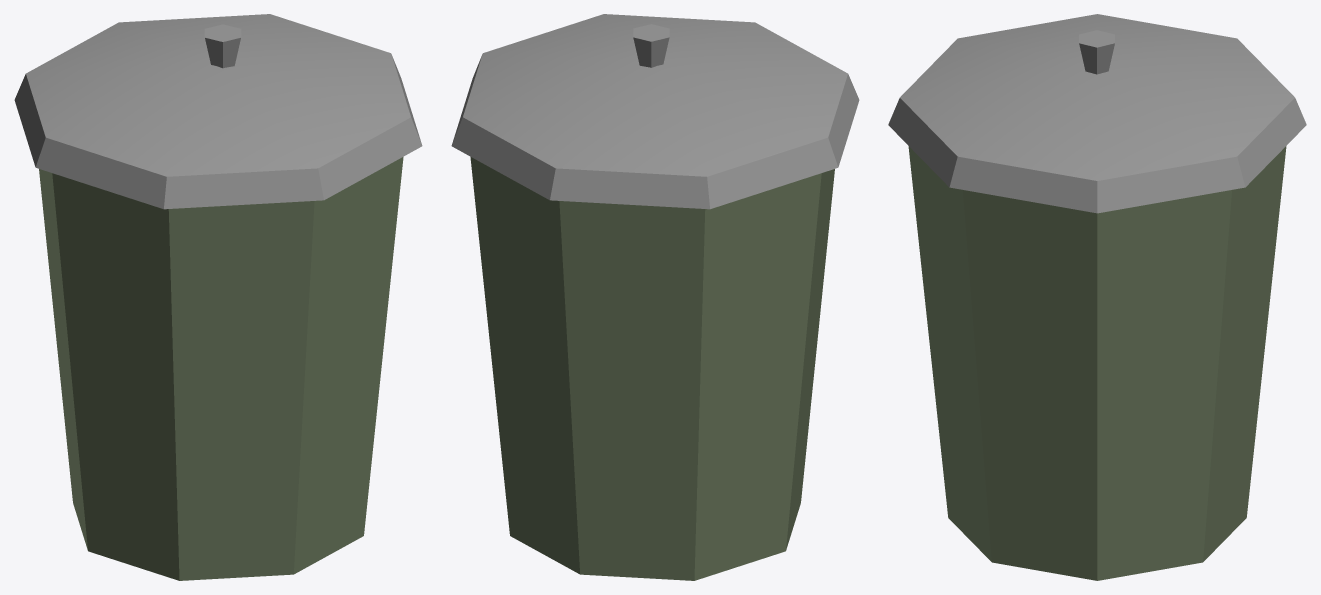
File: bin_green.fbx
The picture shows the model from 3 angles, left to right: view 1: azimuth 30°, elevation 25°; view 2: azimuth 150°, elevation 25°; view 3: azimuth 270°, elevation 25°; orthographic projection.
Visible parts, largest first — view 1: binBase1, binLid1, binHandle1; view 2: binBase1, binLid1, binHandle1; view 3: binBase1, binLid1, binHandle1.
Part boxes in pixels (x1,y1,x2,y2): binBase1: (39,157,403,580); binLid1: (14,14,422,209); binHandle1: (204,24,241,68); binBase1: (470,157,834,580); binLid1: (451,14,859,209); binHandle1: (633,24,669,67); binBase1: (908,146,1286,580); binLid1: (888,14,1306,213); binHandle1: (1079,30,1114,74).
Bounding box in the file's own units: 0.4547 × 0.5766 × 0.4548.
